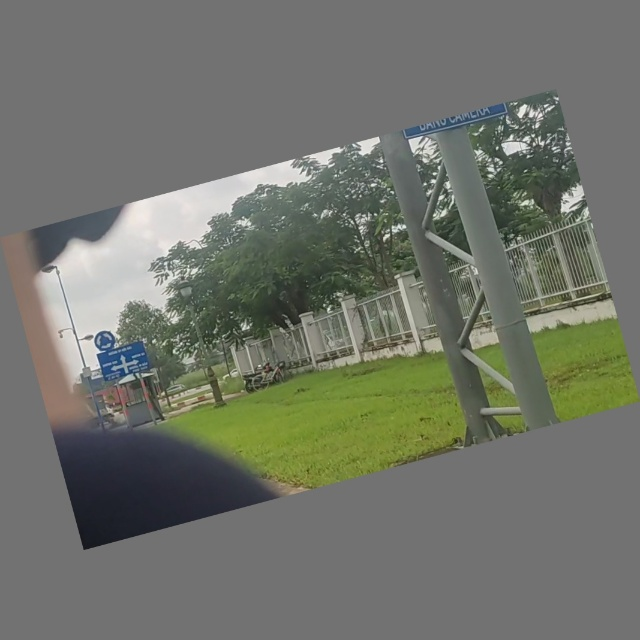R.303: (92, 329, 117, 353)
